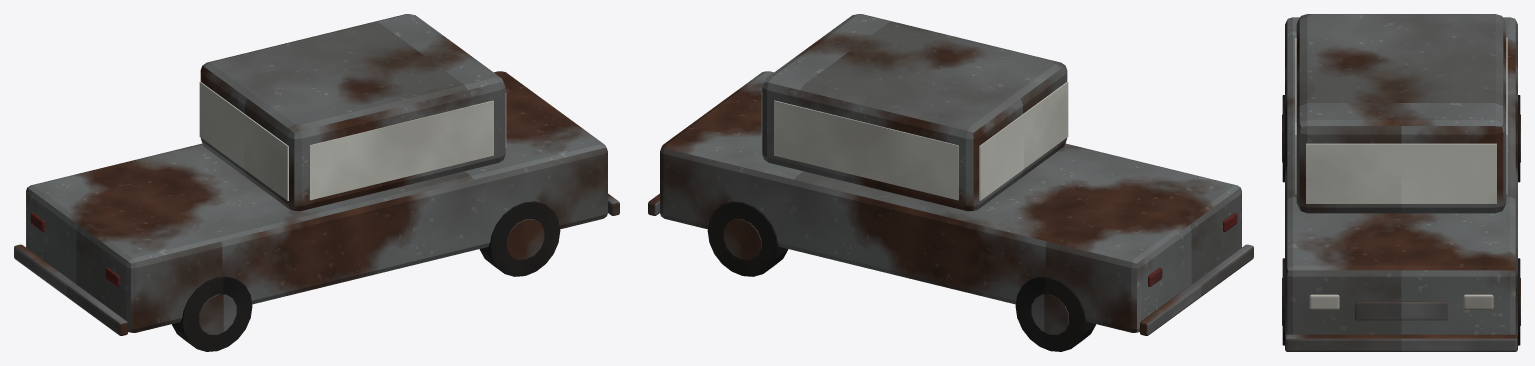
Rendered from CV01_old_sedan_v3.glb.
The picture shows the model from 3 angles, left to right: view 1: azimuth 30°, elevation 25°; view 2: azimuth 150°, elevation 25°; view 3: azimuth 270°, elevation 25°; orthographic projection. The views are drawn at different scales.
Visible parts, largest first — view 1: CV01_old_sedan_v3; view 2: CV01_old_sedan_v3; view 3: CV01_old_sedan_v3.
Boxes of the visible parts, x1,y1,x2,y2 form: CV01_old_sedan_v3: [14, 14, 619, 351]; CV01_old_sedan_v3: [648, 14, 1253, 351]; CV01_old_sedan_v3: [1282, 14, 1520, 351].
Size of the model in its own units: 4.4 by 1.64 by 1.67.
6 materials, 6 textured.
